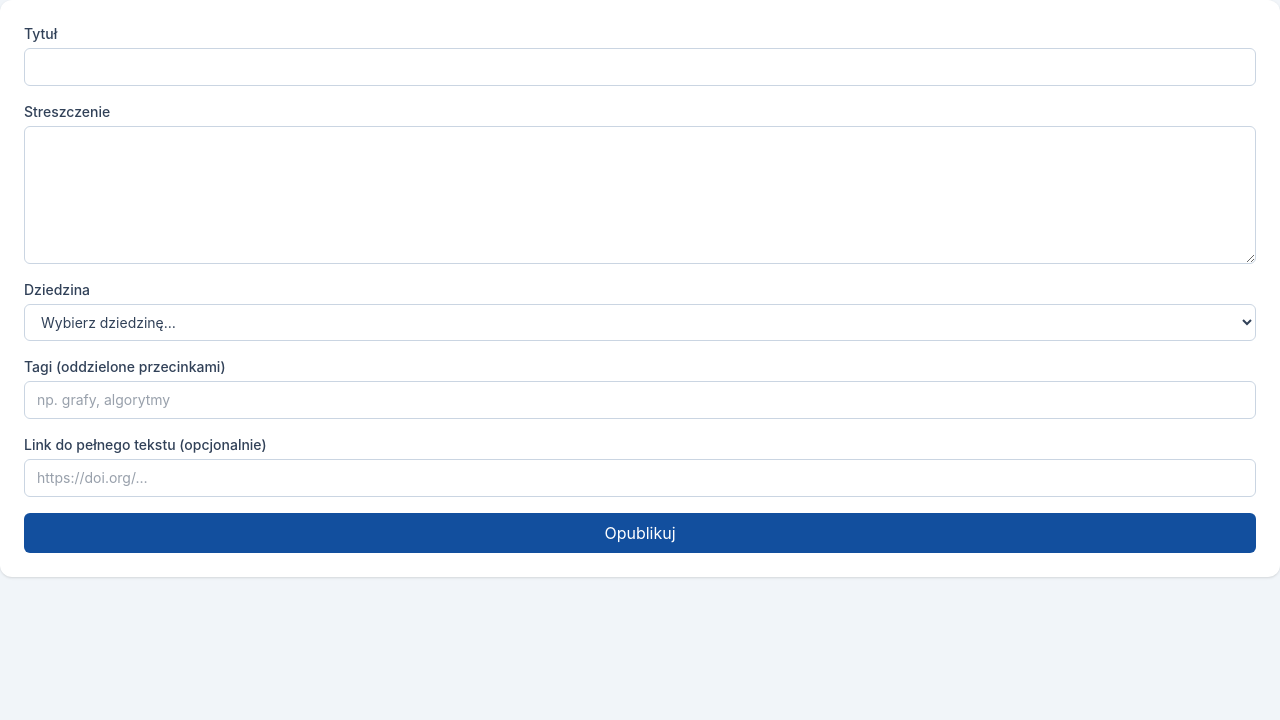
ArticleForm › pusty formularz pokazuje komunikaty walidacji
The image size is (1280, 720).
What coordinates should you click on to do the following:
click the button "Opublikuj"
I would click on:
 (640, 533)
Its box is top-left (24, 513), bottom-right (1256, 553).
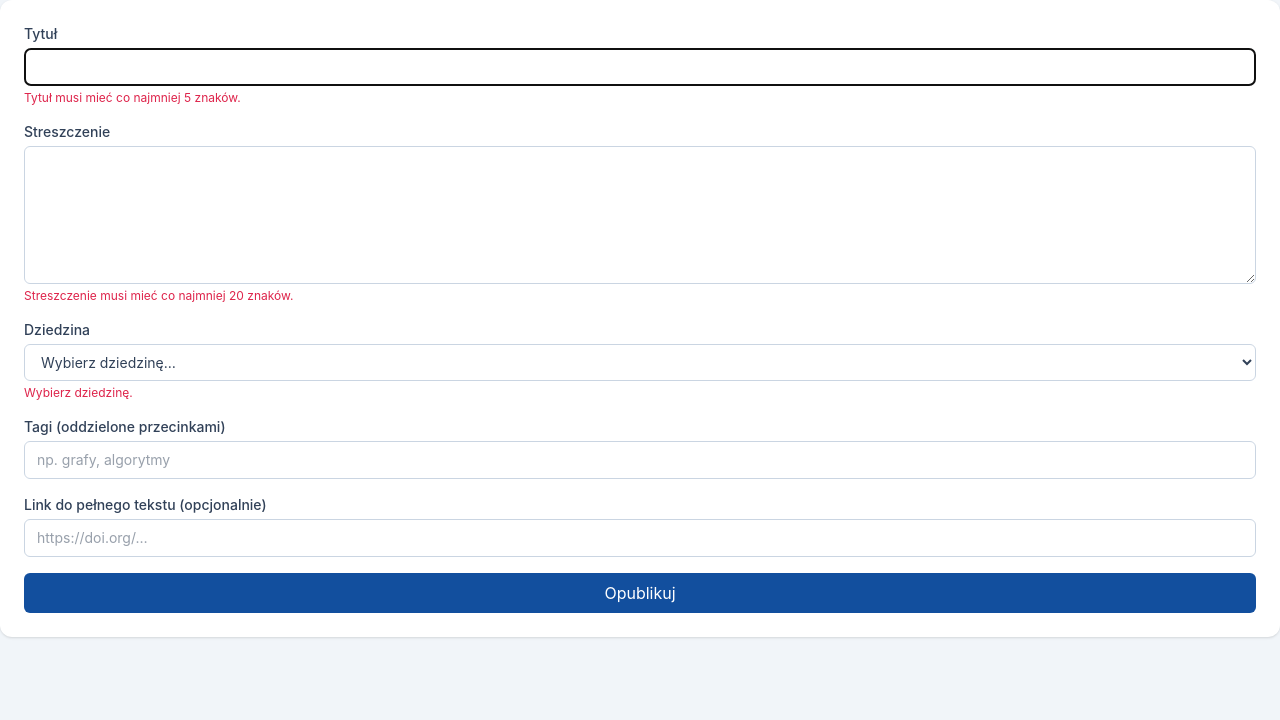
Now the text "Tytuł musi mieć co najmniej 5 znaków." is shown, box top-left (24, 90), bottom-right (241, 105)
Now the text "Wybierz dziedzinę." is shown, box top-left (24, 385), bottom-right (133, 400)
